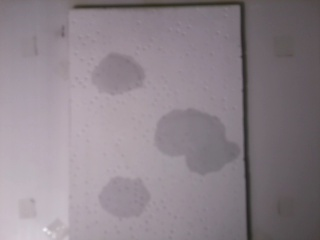Water_detected: (158, 112, 228, 165), (101, 59, 142, 92), (113, 176, 142, 206)
